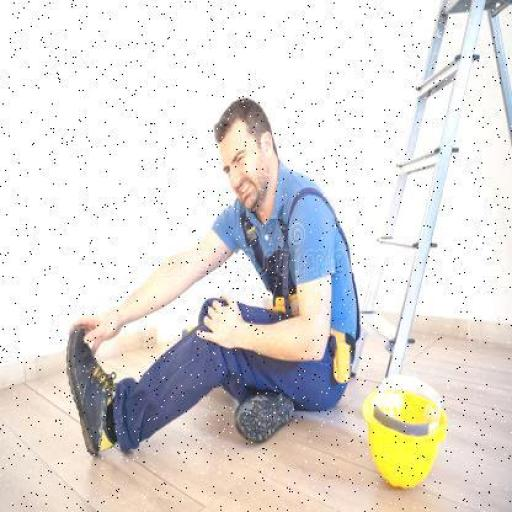person: (52, 96, 364, 478)
safety_shoe: (66, 327, 111, 464), (234, 388, 292, 446)
